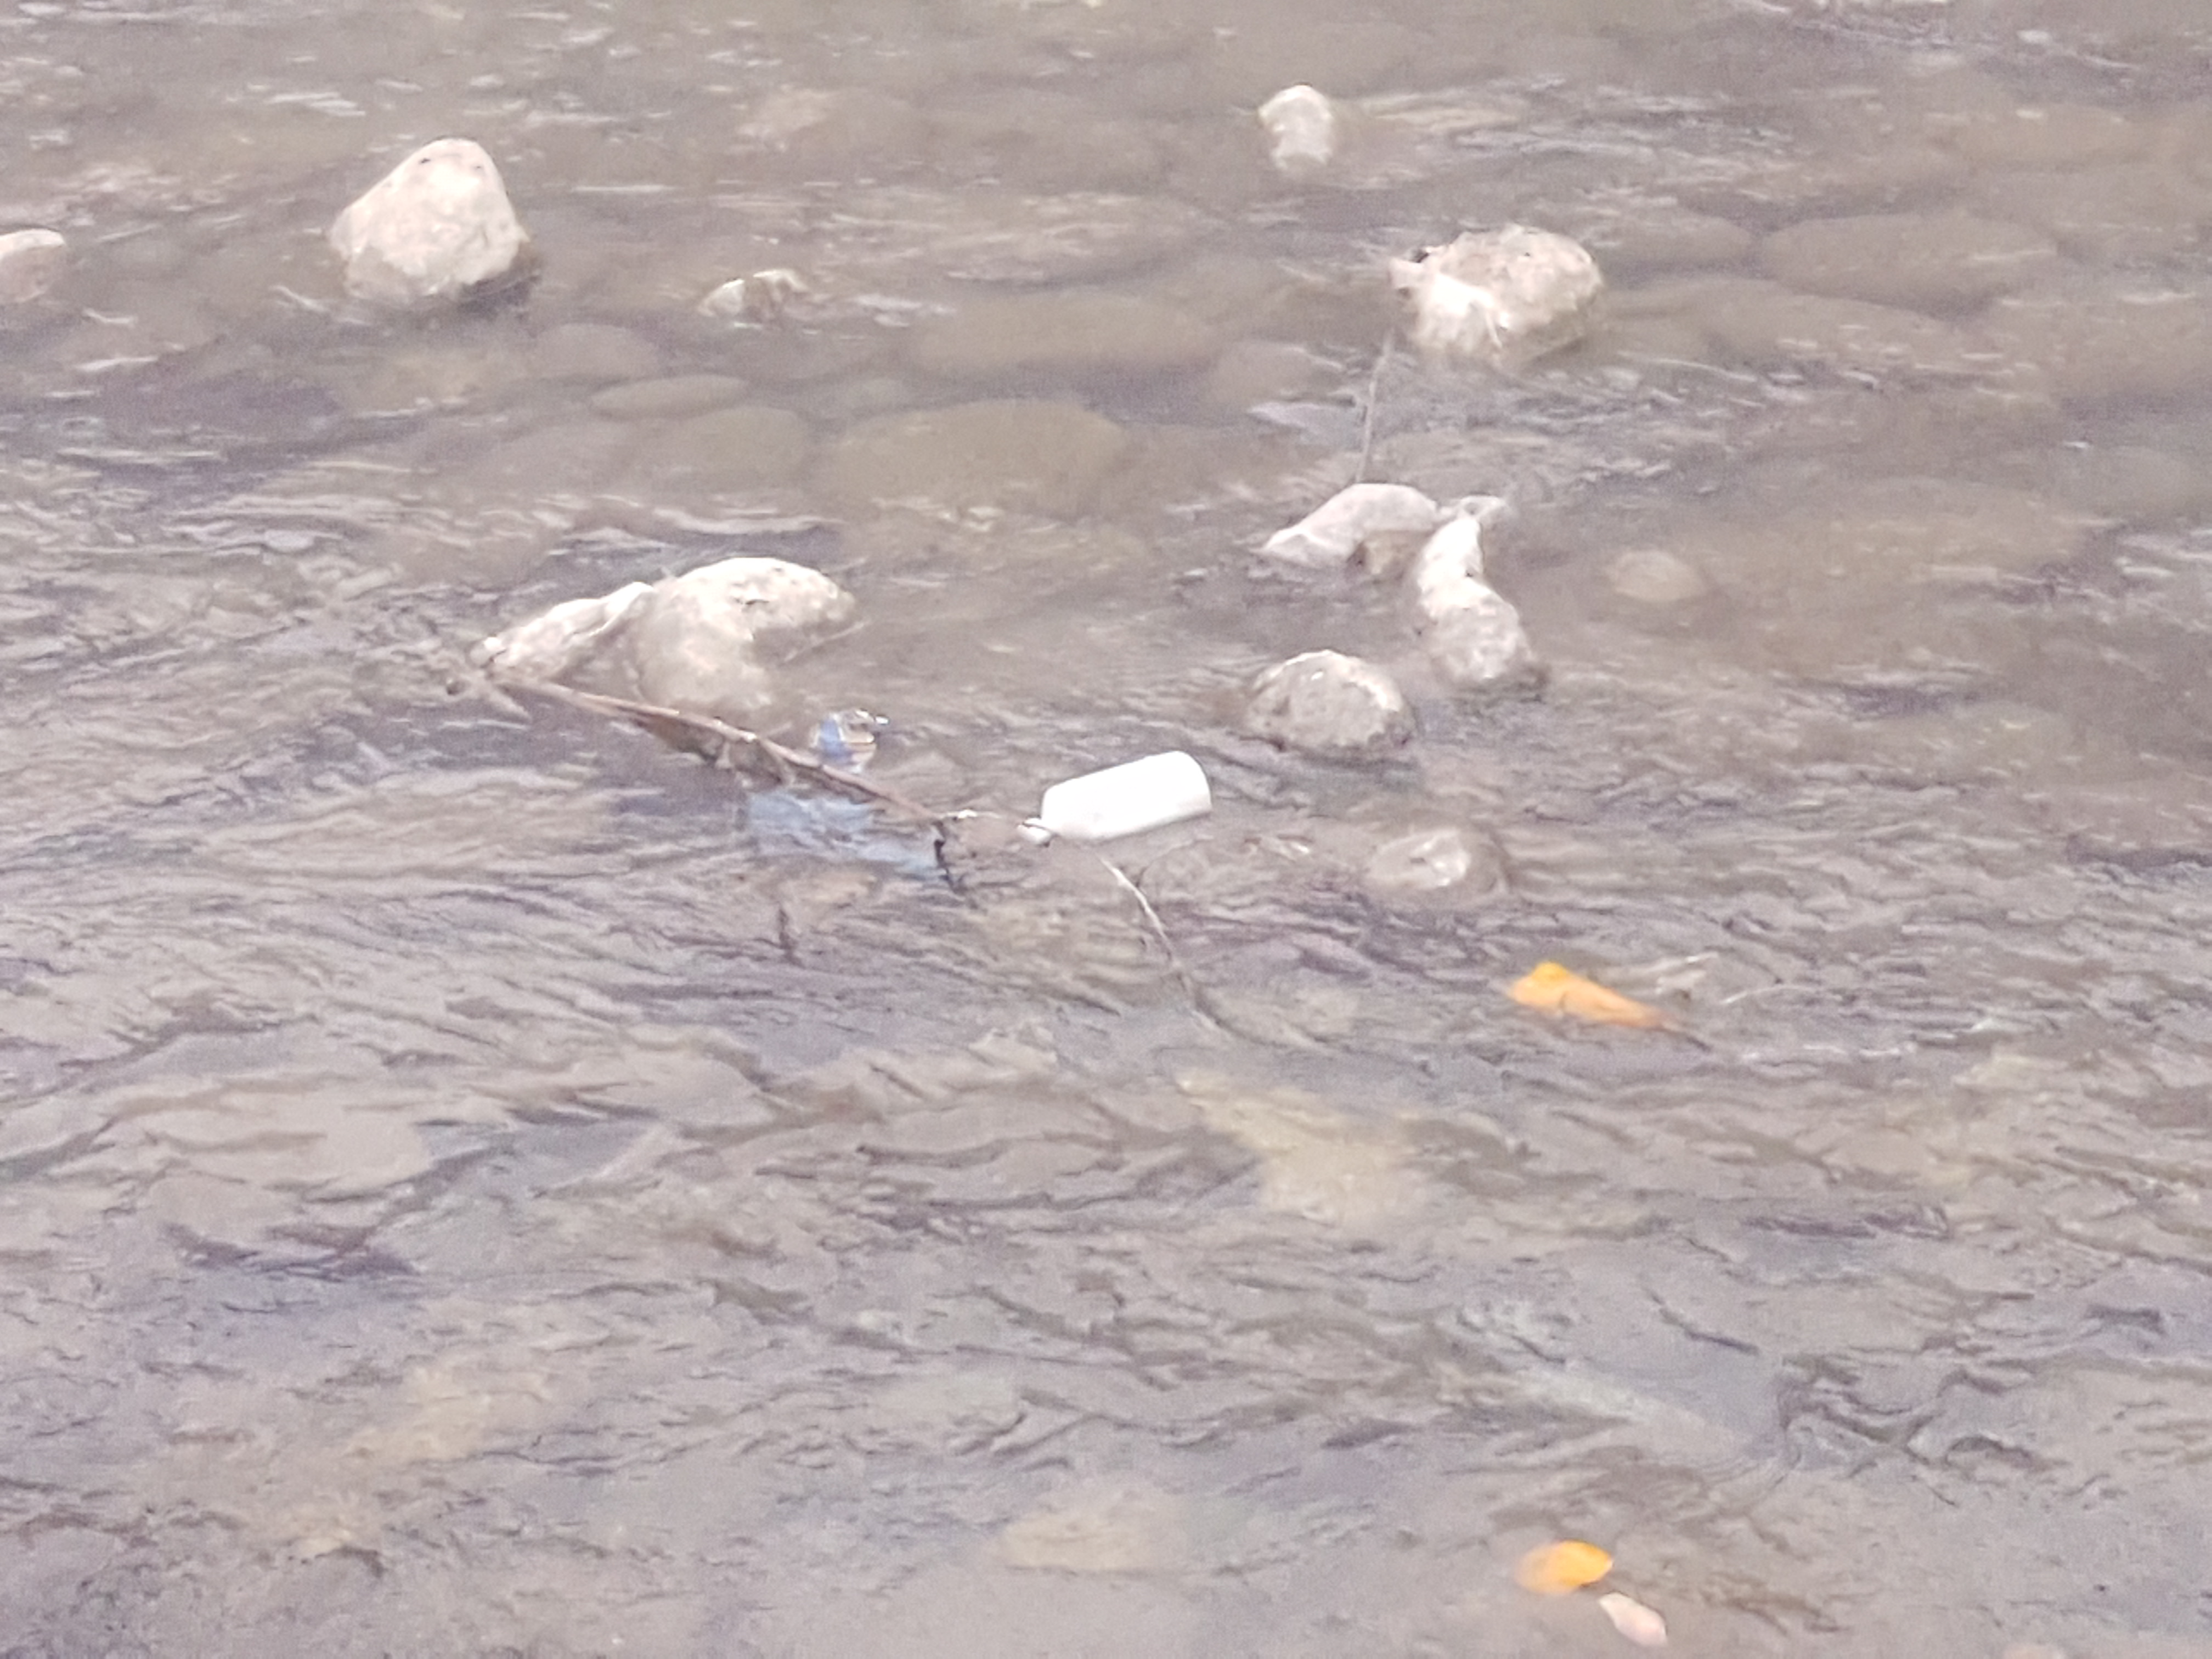Plastic Bottle: (1017, 751, 1212, 843)
